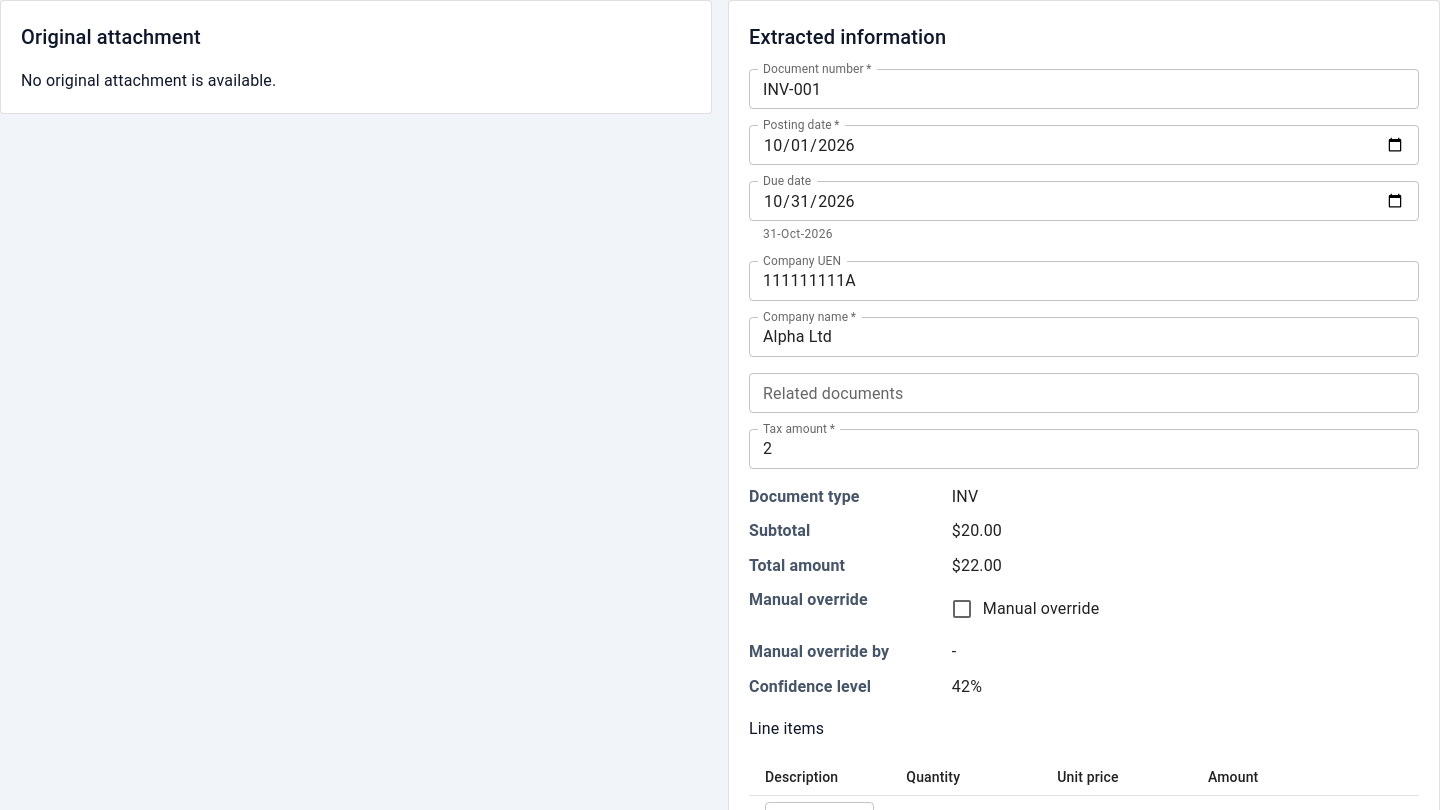
DocumentInfo edit mode › offers a drop down of matching companies when several match the UEN
Replace the text in the field labelled "Company UEN" with "555" at {"x": 1084, "y": 281}, box [749,261,1419,301]
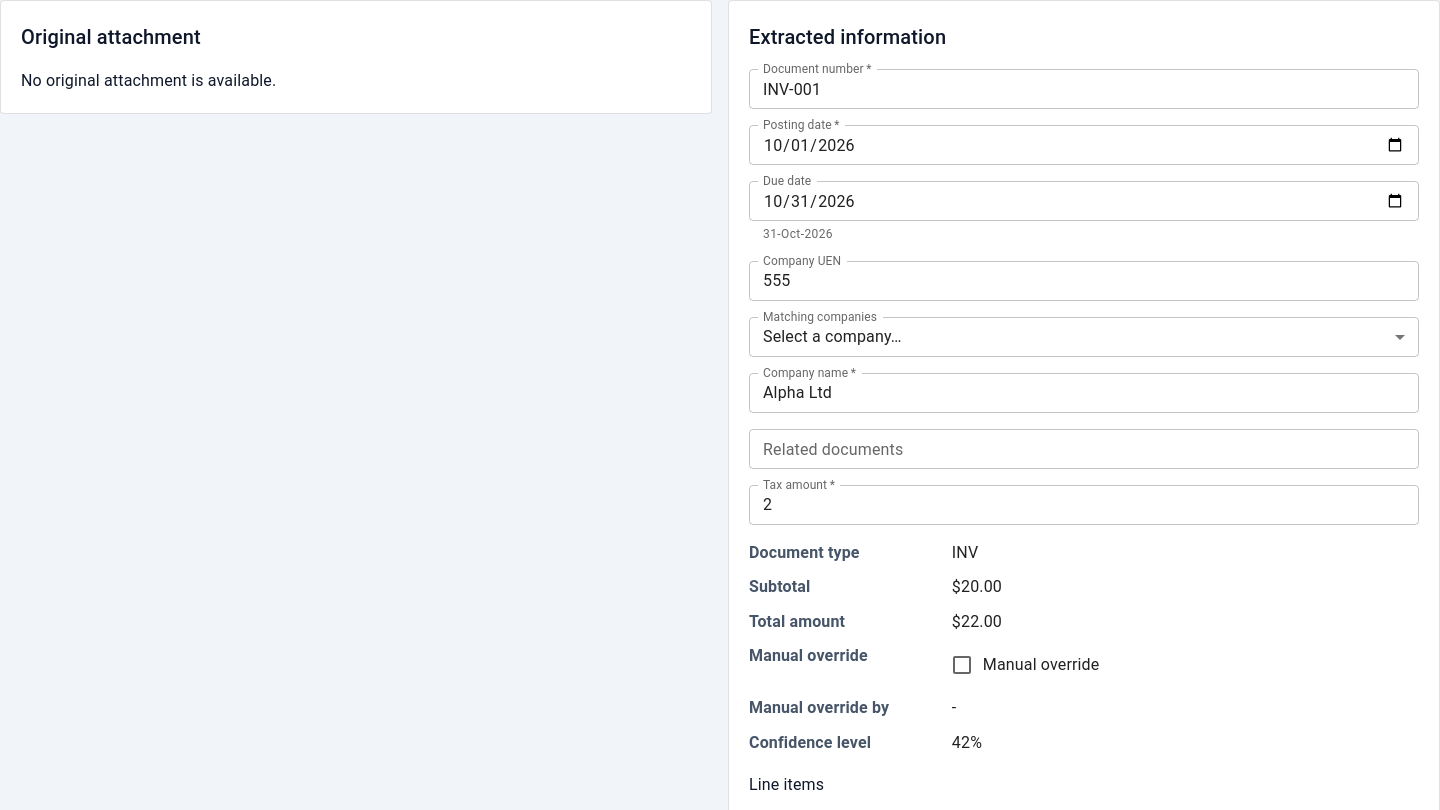
Expected: the field labelled "Company name *" is enabled, [749,373,1419,413]
Select "Other Co (555F)" in the dropdown labelled "Matching companies" at {"x": 1084, "y": 337}, box [749,317,1419,357]
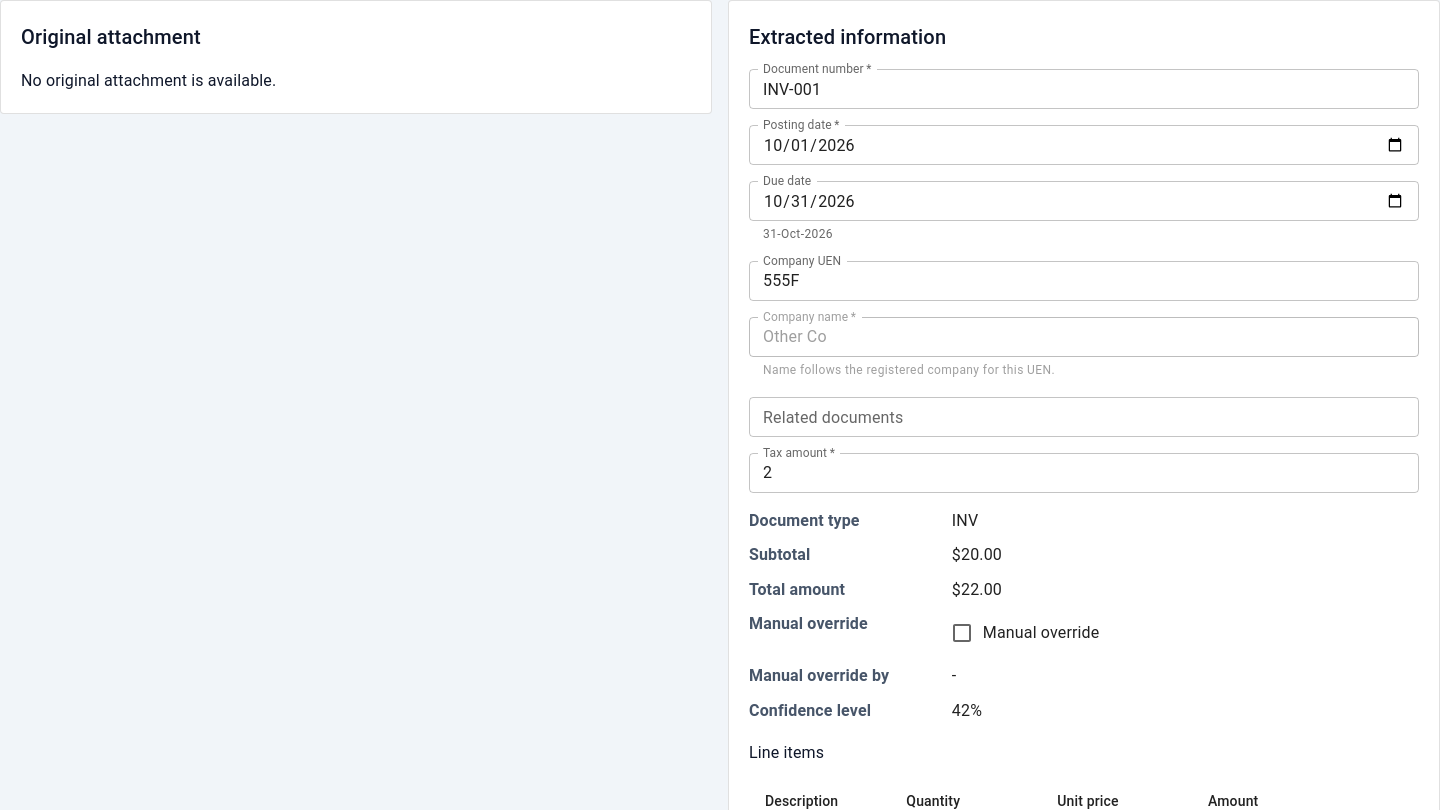
Expected: the field labelled "Company UEN" holds "555F", [749,261,1419,301]
Expected: the field labelled "Company name *" holds "Other Co", [749,317,1419,357]
Expected: the label labelled "Matching companies" is gone
